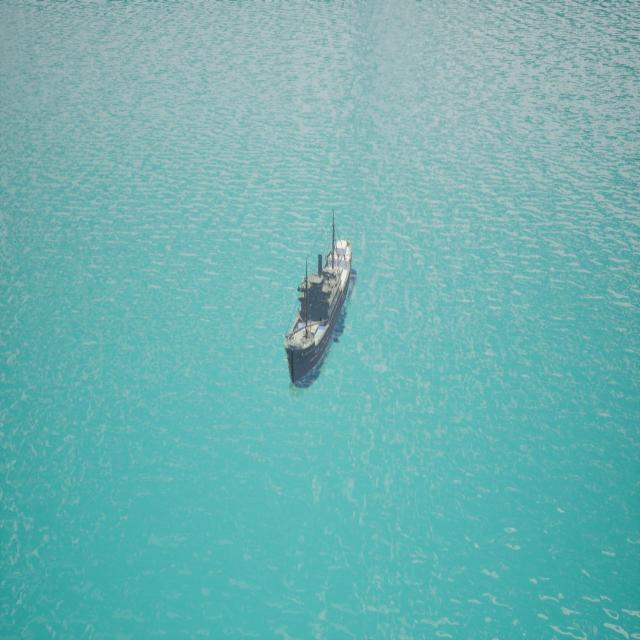fishing ship: (280, 238, 358, 390)
